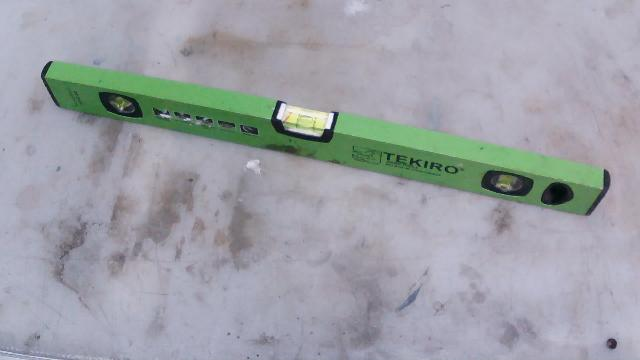water_pass: (23, 28, 624, 246)
